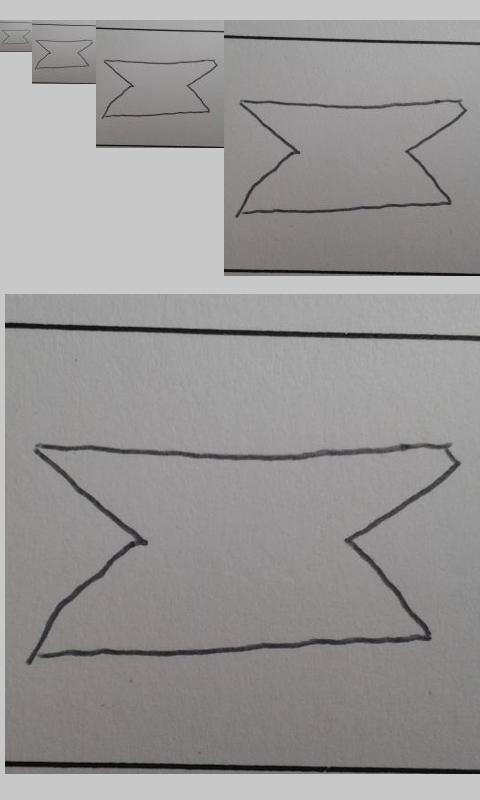edit_text: (24, 441, 461, 659), (235, 98, 468, 216), (102, 58, 218, 118), (35, 39, 94, 69), (1, 29, 31, 45)
